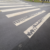zebra: (1, 1, 50, 38)
